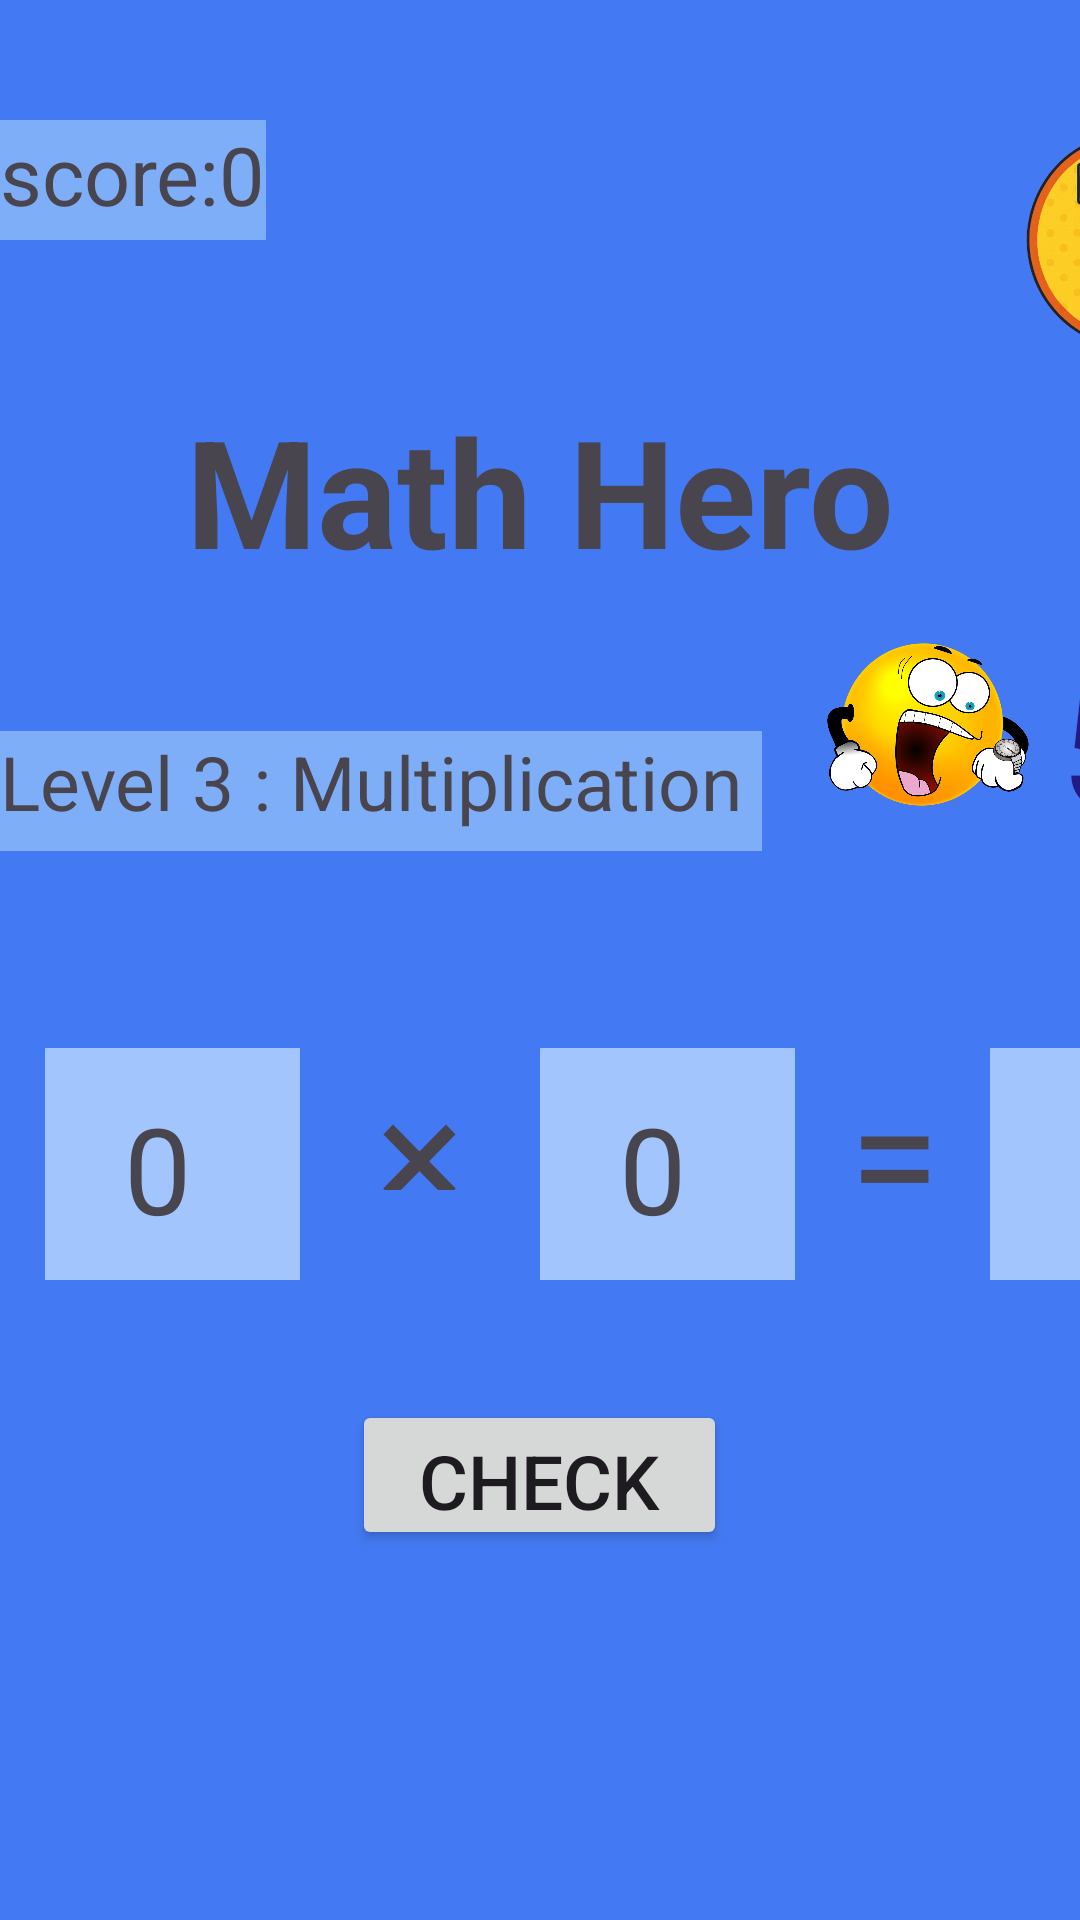

Screen size 1080 × 1920. Icon name, then its center in pixels as [x,y]:
timeout: [928,724]
